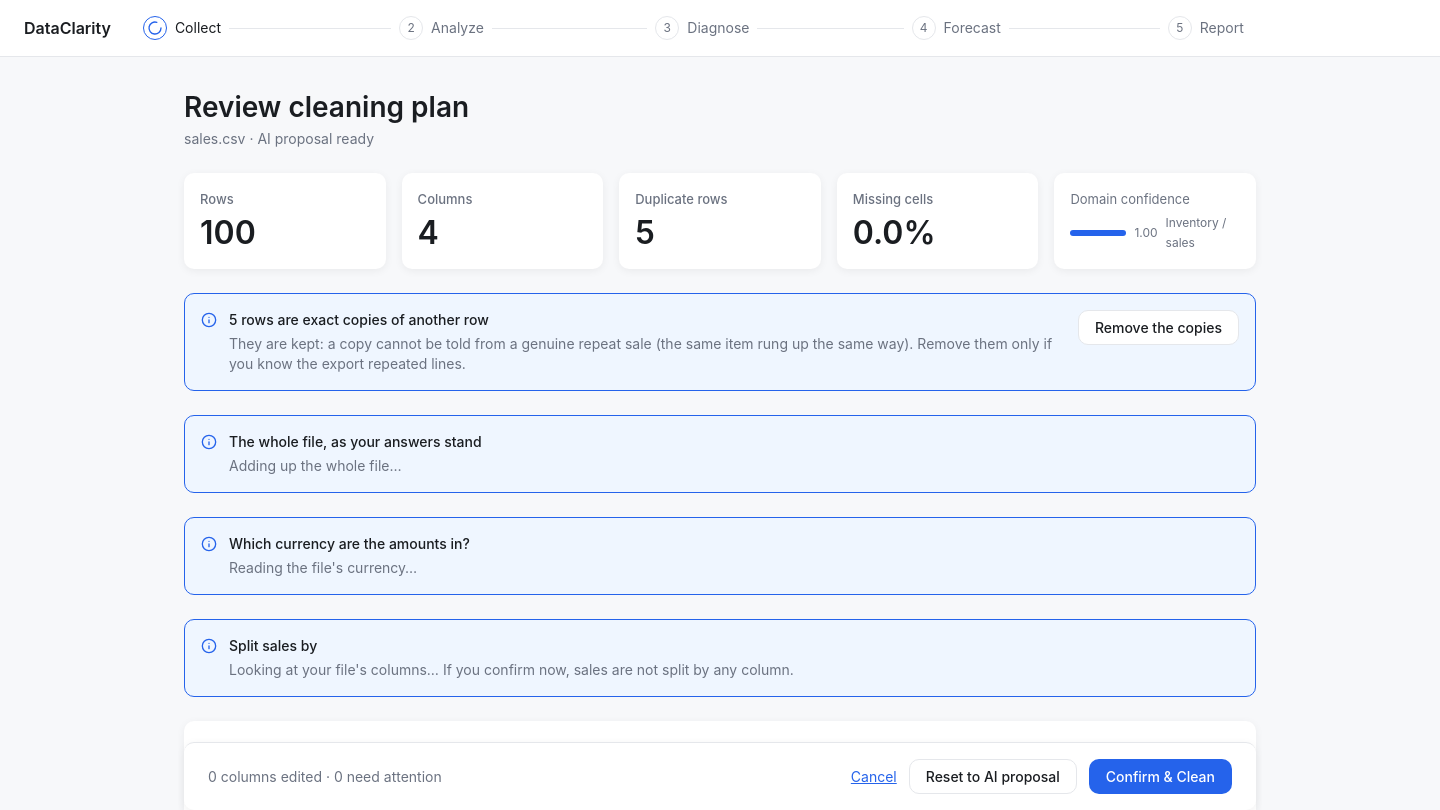
Scenario: ReviewPage: exact copies (2E-u4) › before the summary counts the step, says where the revenue will be
The width and height of the screenshot is (1440, 810).
Click the button "Remove the copies": {"x": 1158, "y": 328} [1078,310,1239,345]
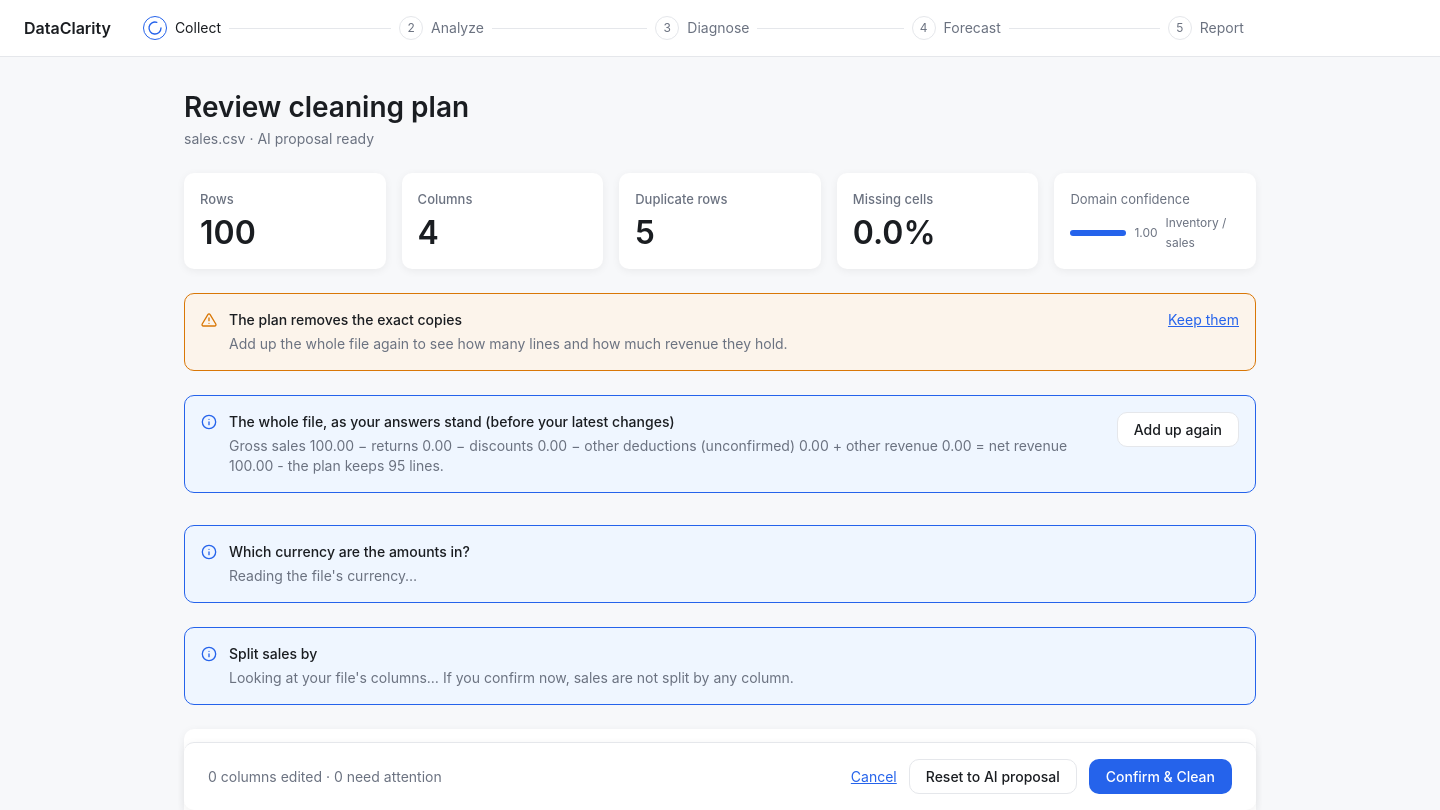
Expected: the text "The plan removes the exact copies" is shown, [229,311,462,328]
Expected: the text "Add up the whole file again to see how many lines and how much revenue they hold" is shown, [229,335,788,352]
